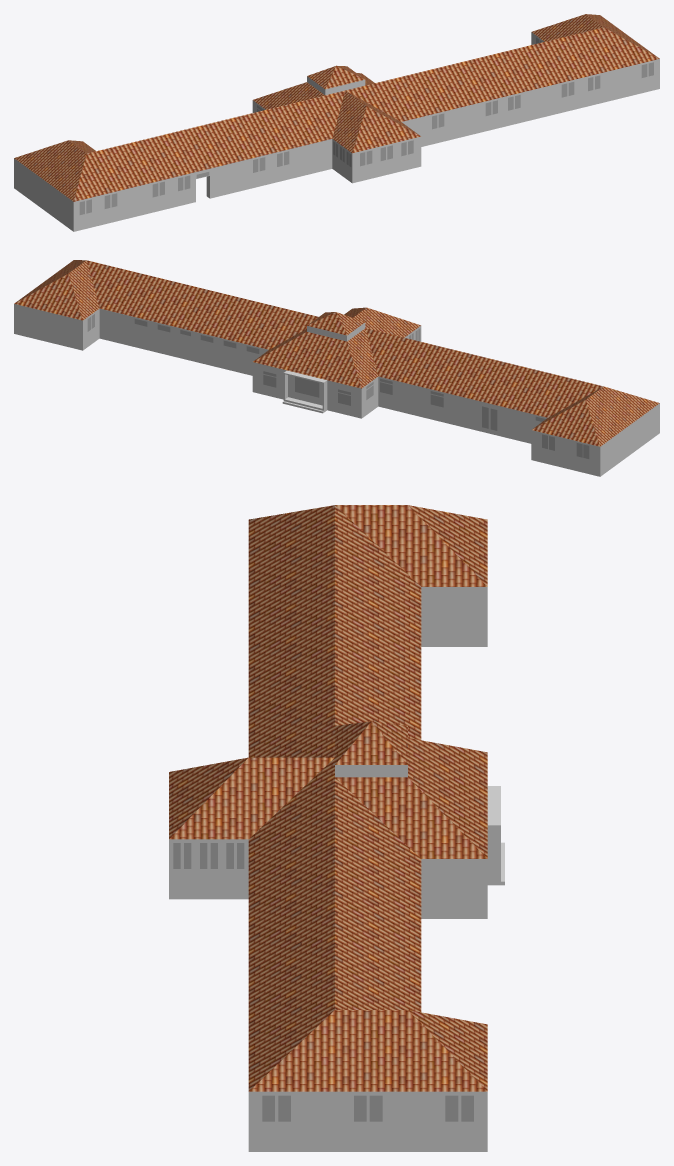
Rendered from LFBI_Aeroclub.glb.
3 renders of one model, top to bottom at view 1: azimuth 30°, elevation 25°; view 2: azimuth 150°, elevation 25°; view 3: azimuth 270°, elevation 25°, orthographic. The views are drawn at different scales.
Visible parts, largest first — view 1: blah.002, blah, blah.001; view 2: blah.002, blah, blah.001; view 3: blah.002, blah, blah.001.
Boxes of the visible parts, x1=… form: blah.002: x1=14, y1=14, x2=659, y2=201; blah: x1=14, y1=32, x2=659, y2=231; blah.001: x1=79, y1=37, x2=653, y2=214; blah.002: x1=14, y1=260, x2=659, y2=446; blah: x1=14, y1=304, x2=659, y2=476; blah.001: x1=87, y1=314, x2=589, y2=458; blah.002: x1=169, y1=505, x2=487, y2=1091; blah: x1=169, y1=587, x2=504, y2=1151; blah.001: x1=173, y1=843, x2=473, y2=1121.
Bounding box in the file's own units: 51 × 6 × 12.65.
3 materials, 1 textured.
